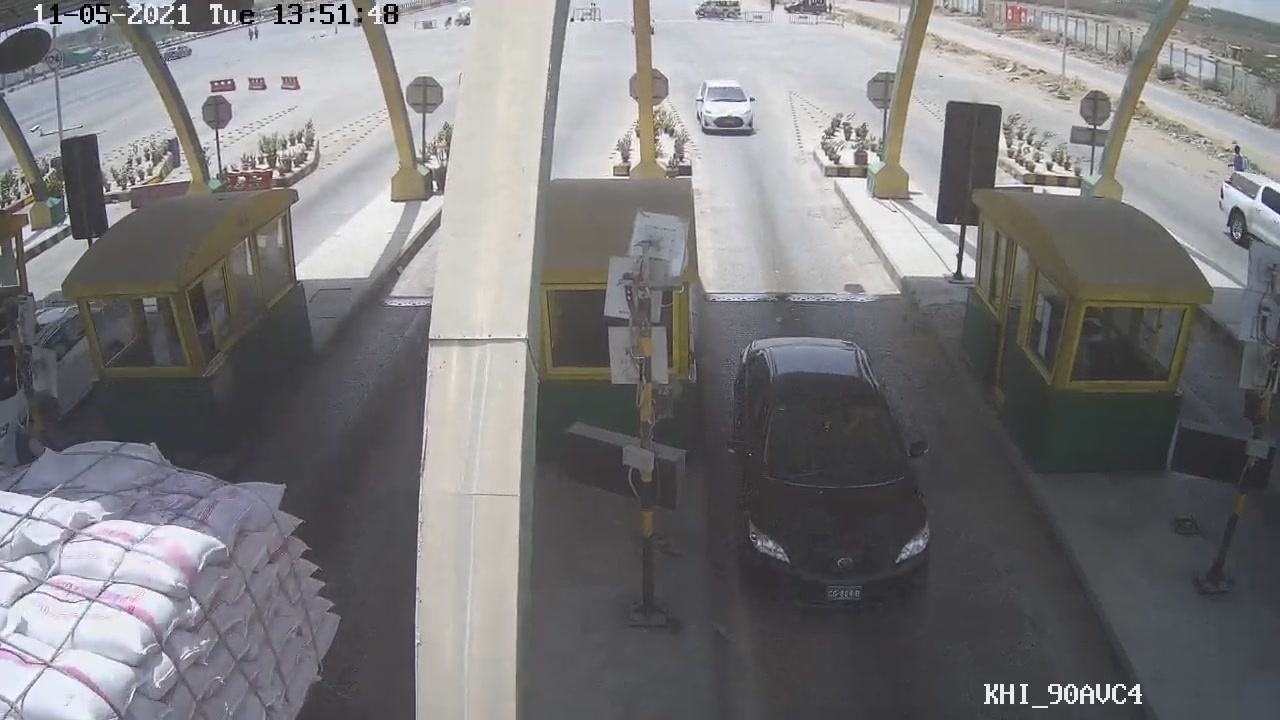F1: (720, 321, 940, 622)
